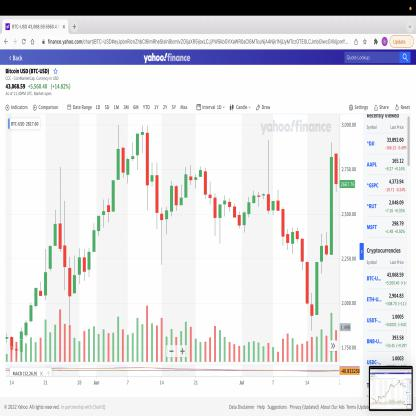Bearish: Tweezer Top: (77, 246, 87, 286)
Bullish: 3 White Soldiers: (43, 207, 58, 302)
Bullish: Tweezer Bottom: (212, 190, 222, 247), (237, 207, 247, 235)
